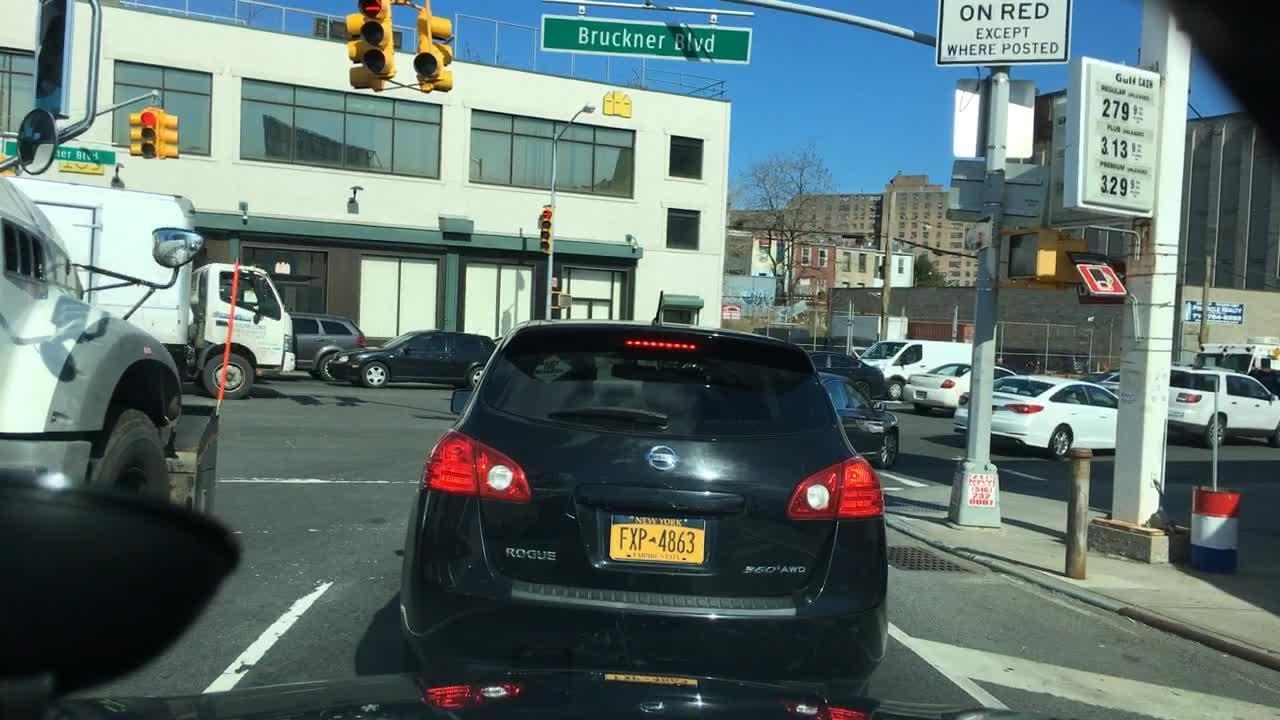Nissan: (633, 437, 684, 482)
